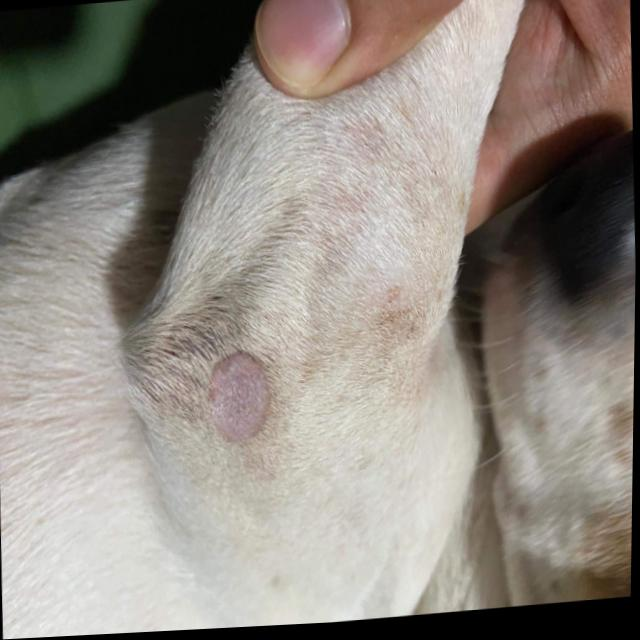ringworm: (177, 331, 286, 512)
